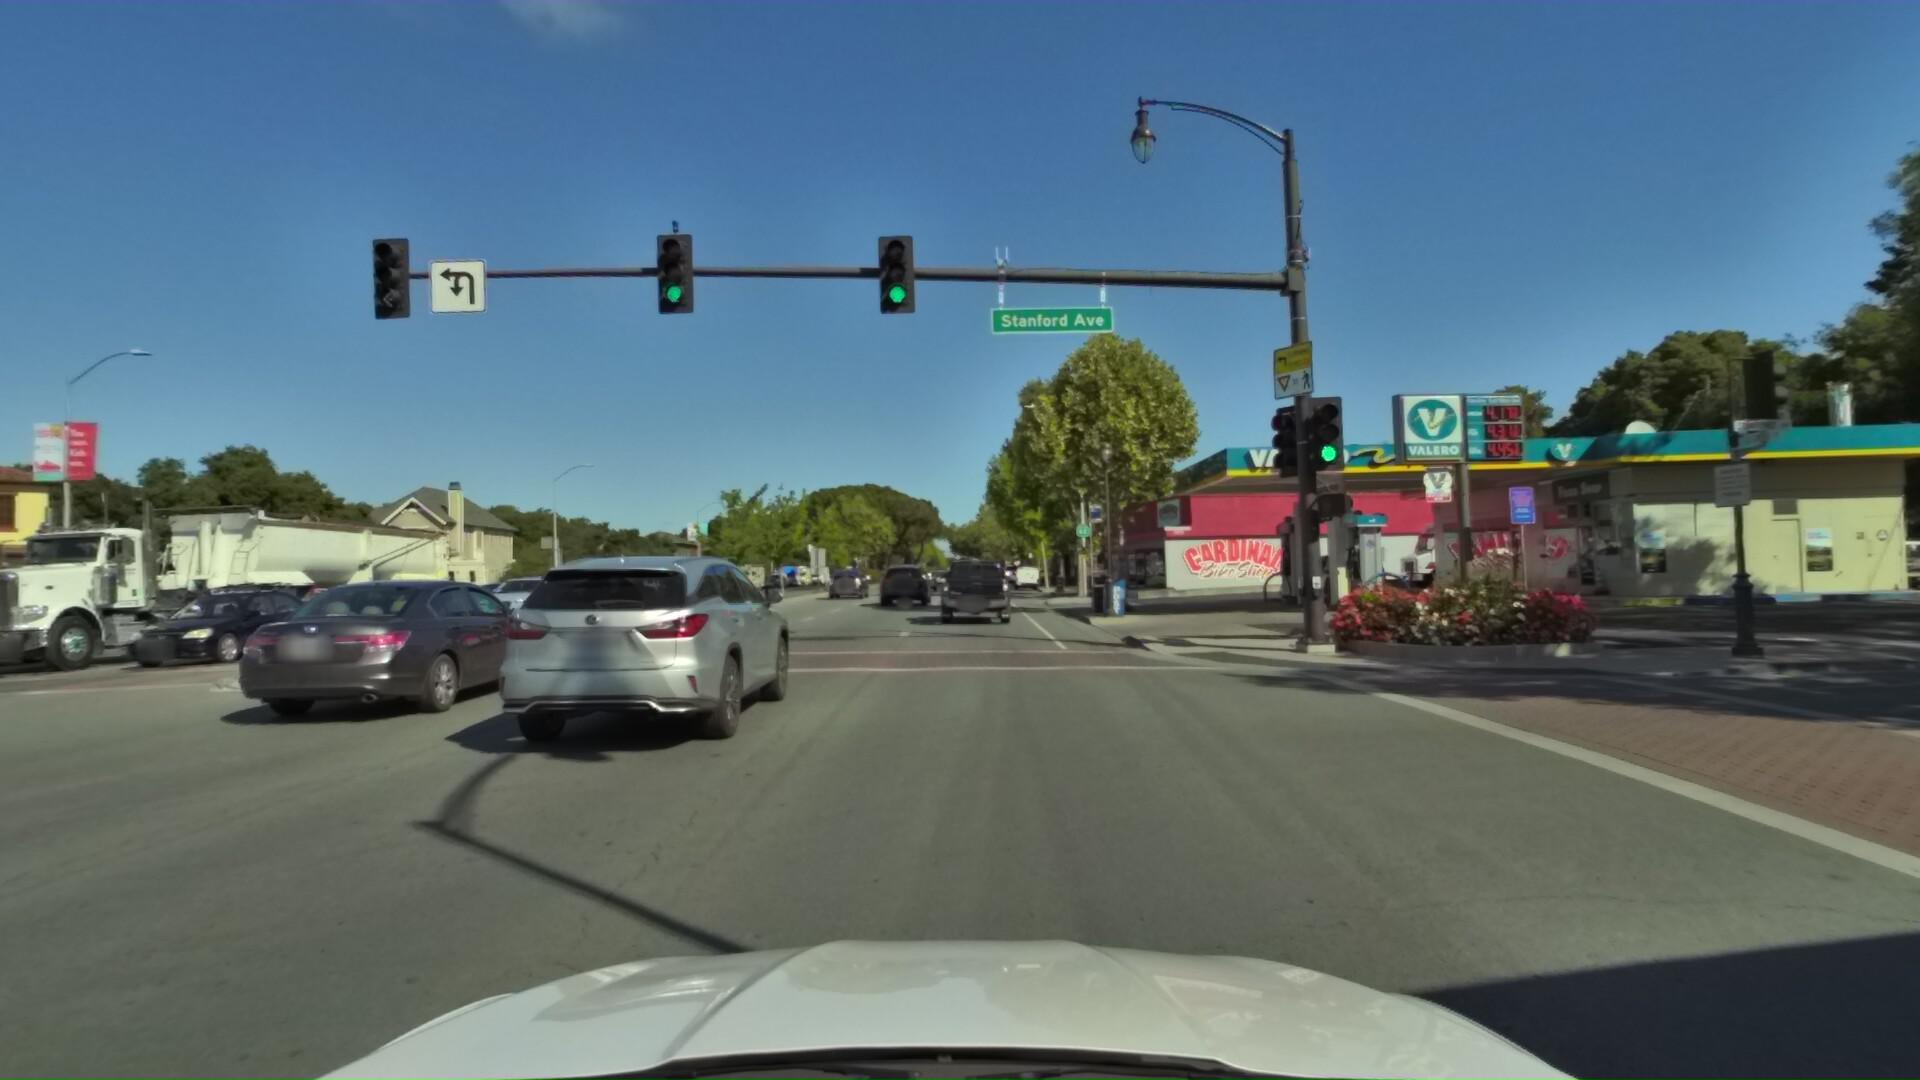car: (487, 535, 807, 764), (211, 570, 568, 741), (88, 572, 342, 680), (0, 583, 138, 669), (649, 574, 769, 645), (1795, 526, 1920, 593), (0, 584, 73, 692), (272, 582, 407, 636), (467, 567, 576, 626), (939, 558, 1011, 629), (1865, 517, 1920, 597), (874, 564, 928, 613), (822, 564, 868, 603), (905, 568, 939, 595), (1011, 559, 1040, 589), (997, 560, 1026, 585)
other_vehicle: (339, 543, 492, 625), (580, 553, 654, 603)
truck: (0, 477, 458, 691), (1387, 506, 1607, 587)
